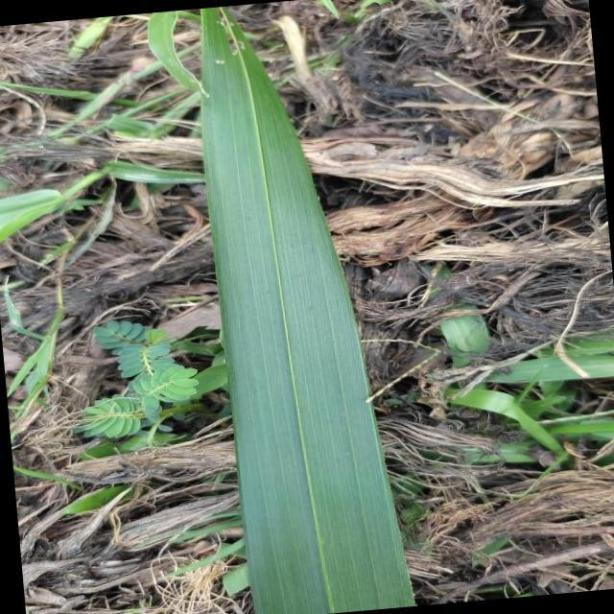Boron: (200, 6, 419, 614)
